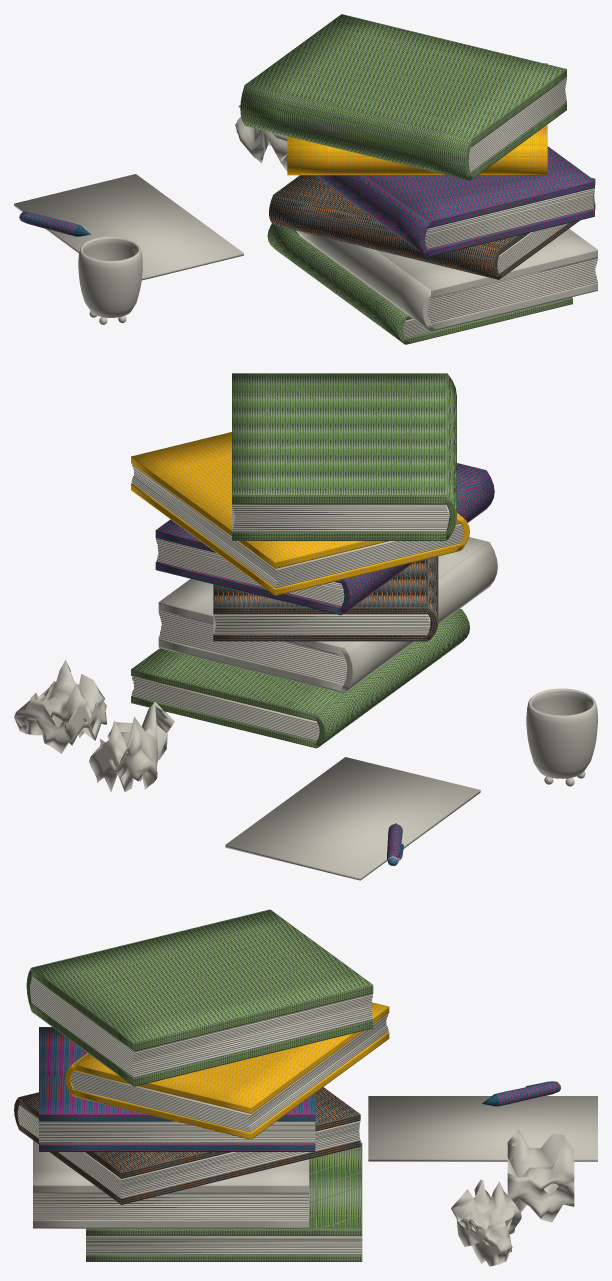
Rendered from books.obj.
3 views of the same model, one above another, from view 1: azimuth 30°, elevation 25°; view 2: azimuth 150°, elevation 25°; view 3: azimuth 270°, elevation 25° (orthographic). The views are drawn at different scales.
Visible parts, largest first — view 1: Box110, Box16, Box111, Box75, Box61, Line01, Box94, Box03, Box30, Box31, Box76, Box60 (+8 smaller); view 2: Box110, Box16, Box93, Box02, Line01, Box03, Box113, Box60, Box31, Box17, Box30, Box80 (+19 smaller); view 3: Box110, Box16, Box93, Box02, Box75, Box17, Box30, Box113, Box60, Box112, Box32, Box80 (+77 smaller).
Part boxes in pixels (box(x1,y1,x2,y2)): Box110: box(245, 14, 566, 146); Box16: box(14, 174, 243, 280); Box111: box(240, 85, 472, 180); Box75: box(365, 146, 594, 228); Box61: box(269, 194, 501, 279); Line01: box(78, 236, 142, 317); Box94: box(287, 145, 547, 174); Box03: box(267, 224, 409, 344); Box30: box(376, 228, 597, 297); Box31: box(296, 230, 434, 330); Box76: box(316, 175, 431, 256); Box60: box(274, 175, 595, 255); Box110: box(232, 373, 446, 504); Box16: box(225, 757, 480, 880); Box93: box(131, 432, 460, 568); Box02: box(131, 609, 460, 721); Line01: box(526, 688, 597, 778); Box03: box(312, 609, 469, 747); Box113: box(14, 660, 106, 753); Box60: box(213, 559, 427, 614); Box31: box(340, 542, 497, 692); Box17: box(89, 702, 174, 792); Box30: box(158, 537, 488, 655); Box80: box(131, 483, 460, 595); Box110: box(31, 910, 373, 1051); Box16: box(368, 1096, 597, 1161); Box93: box(73, 1002, 389, 1113); Box02: box(86, 1143, 362, 1236); Box75: box(39, 1027, 315, 1121); Box17: box(507, 1129, 574, 1222); Box30: box(33, 1140, 308, 1193); Box113: box(451, 1179, 521, 1266); Box60: box(19, 1087, 360, 1178); Box112: box(31, 1003, 373, 1086); Box32: box(33, 1219, 308, 1228); Box80: box(73, 1032, 389, 1139).
Size of the model in its own units: 61.89 by 28.91 by 66.93.
